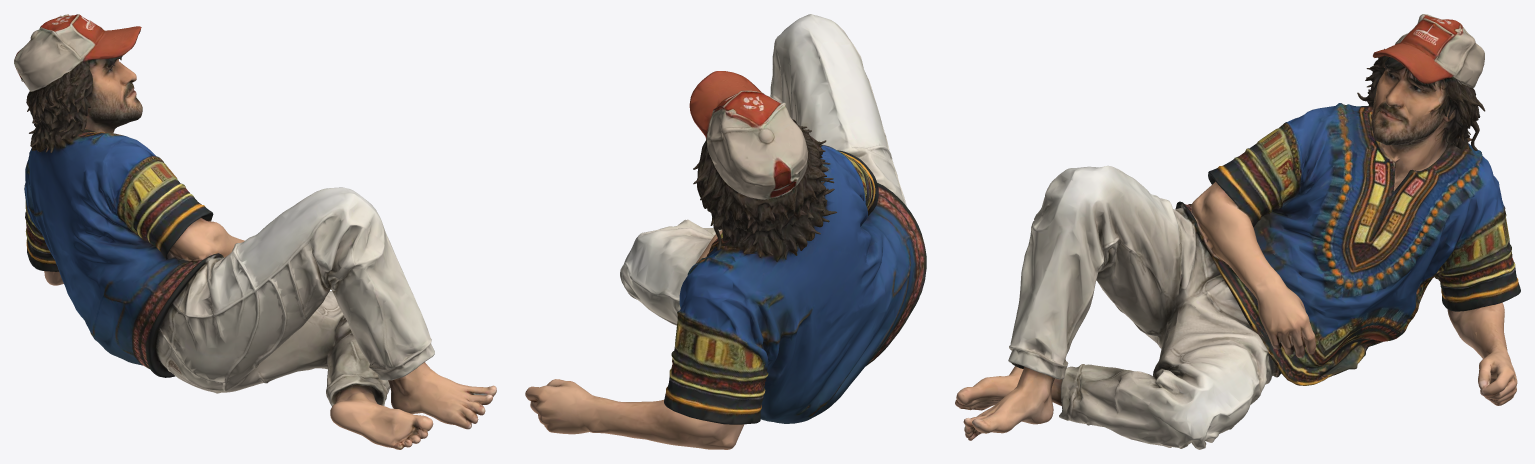
File: iver-02.glb
3 views of the same model, side by side, from view 1: azimuth 30°, elevation 25°; view 2: azimuth 150°, elevation 25°; view 3: azimuth 270°, elevation 25° (orthographic). The views are drawn at different scales.
Visible parts, largest first — view 1: tripo_node_dd603b92-1294-45a3-bf61-732514f14a11; view 2: tripo_node_dd603b92-1294-45a3-bf61-732514f14a11; view 3: tripo_node_dd603b92-1294-45a3-bf61-732514f14a11.
Part boxes in pixels (x1=…): tripo_node_dd603b92-1294-45a3-bf61-732514f14a11: x1=14, y1=14, x2=496, y2=449; tripo_node_dd603b92-1294-45a3-bf61-732514f14a11: x1=525, y1=14, x2=926, y2=449; tripo_node_dd603b92-1294-45a3-bf61-732514f14a11: x1=955, y1=14, x2=1520, y2=449.
Bounding box in the file's own units: 0.5888 × 0.651 × 0.9995.
Materials: 1 (1 with a texture image).
